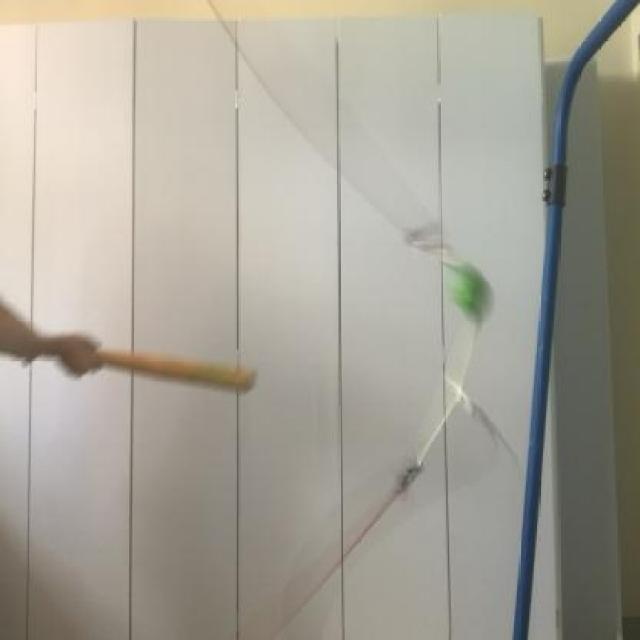baseball: (438, 258, 504, 325)
